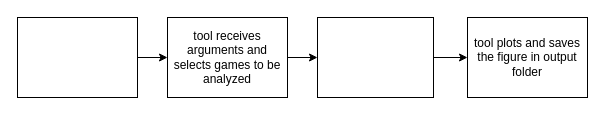
This 605x115 diagram has some shape labels left out. Here are the shapes that lost their labels. From the top down, the box of each, then its label:
(16, 16, 138, 98): command-line execution of tool passing arguments
(316, 16, 434, 98): tool aggregates data of games and transforms into KPI
